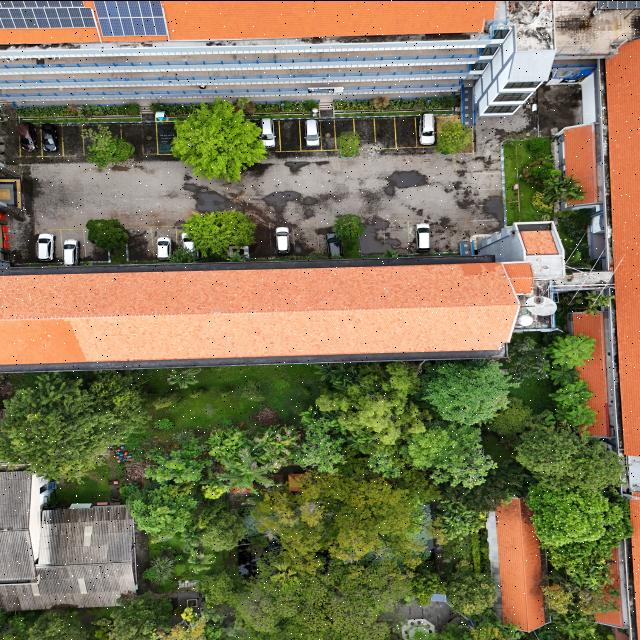Tree: (165, 105, 277, 181), (418, 357, 514, 428), (175, 202, 263, 262), (512, 423, 588, 473), (68, 126, 146, 172), (542, 326, 604, 374), (322, 125, 372, 162), (546, 376, 596, 412)
